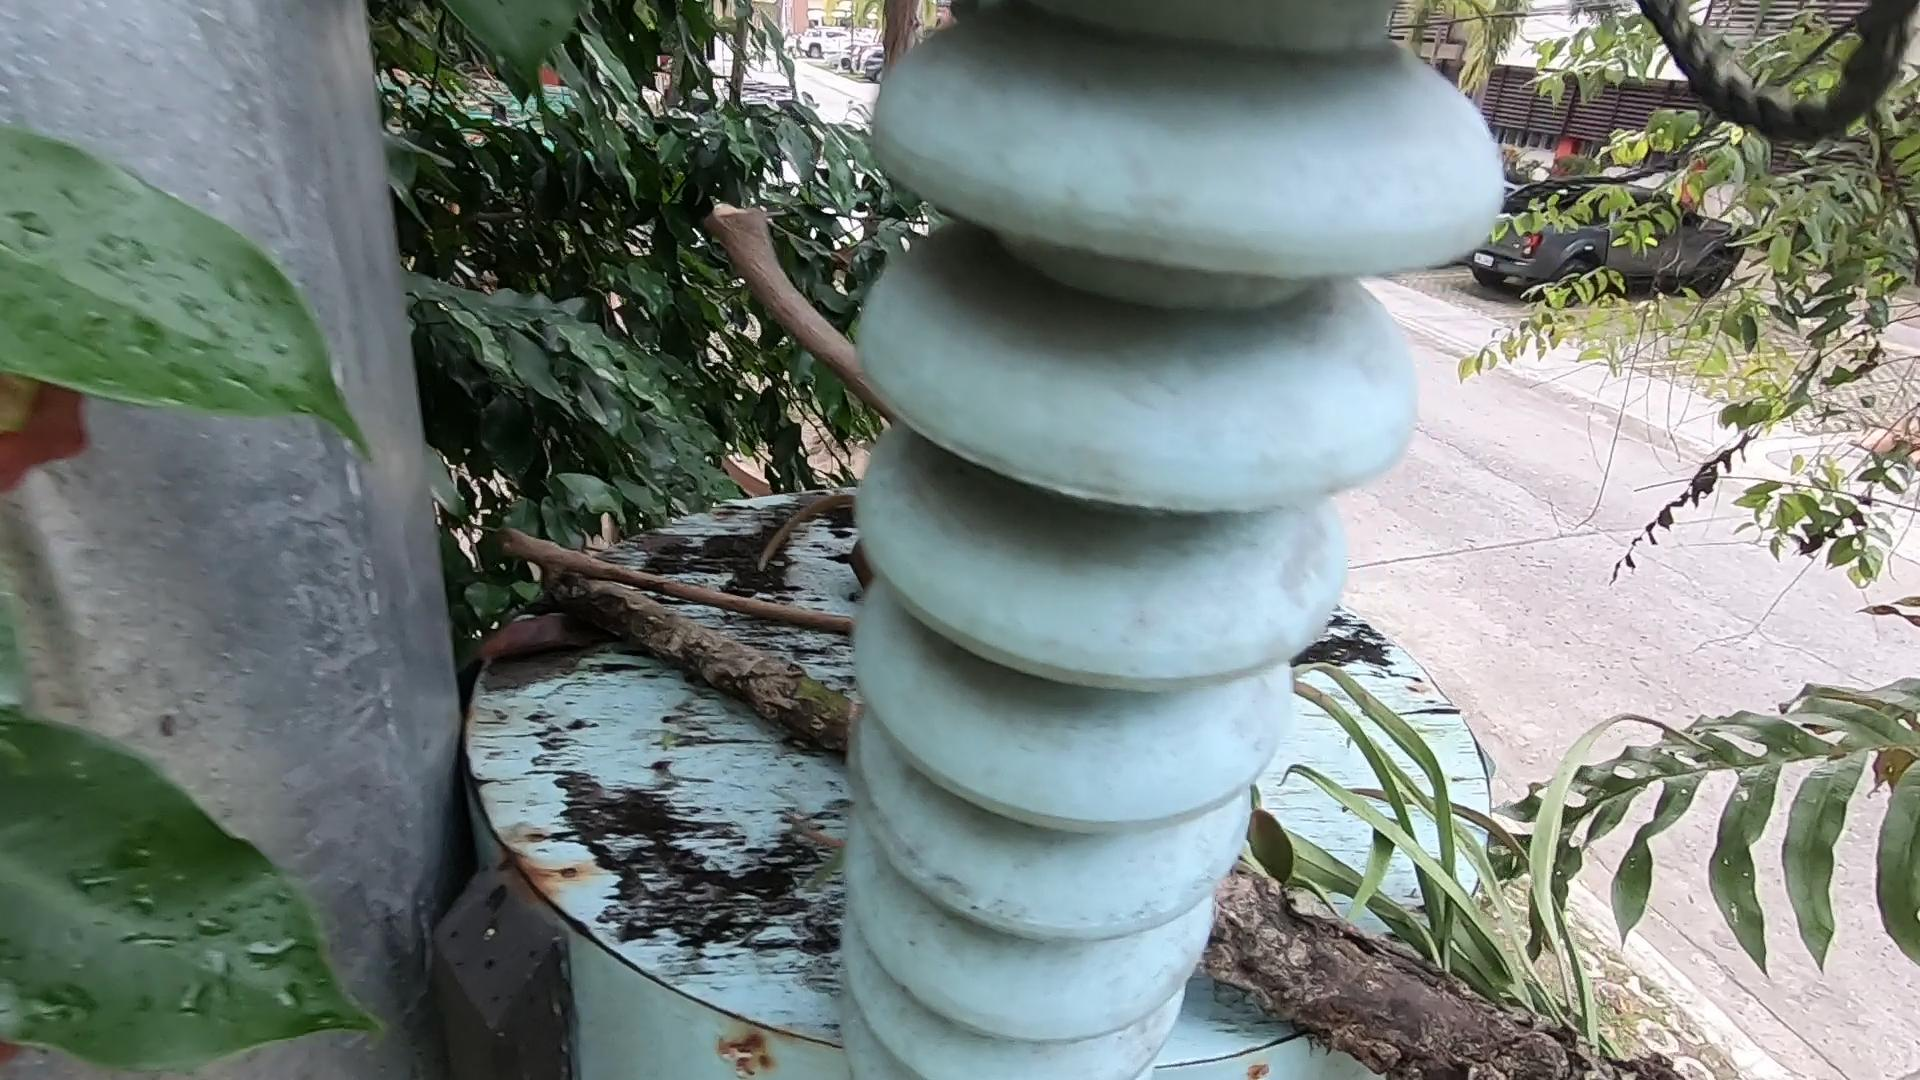branch with leaves: (558, 582, 1509, 1080)
leaf: (462, 558, 578, 717)
tree branch: (712, 198, 881, 409), (508, 542, 849, 636)
